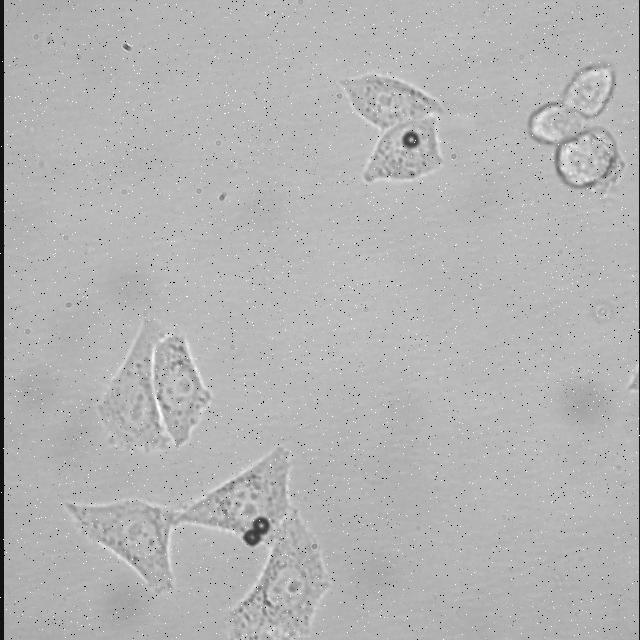microbeads: (399, 131, 421, 151), (240, 530, 260, 548), (252, 516, 270, 532)
